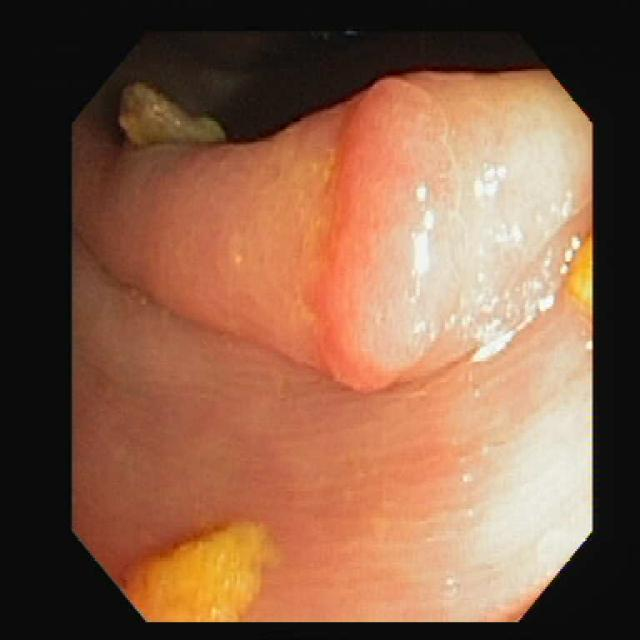tumor: (317, 98, 435, 387)
